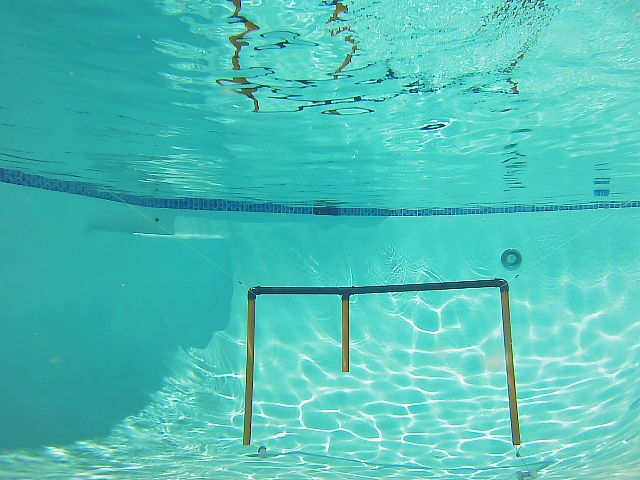Gate: (500, 290, 523, 446), (240, 297, 256, 445), (339, 293, 350, 376)
